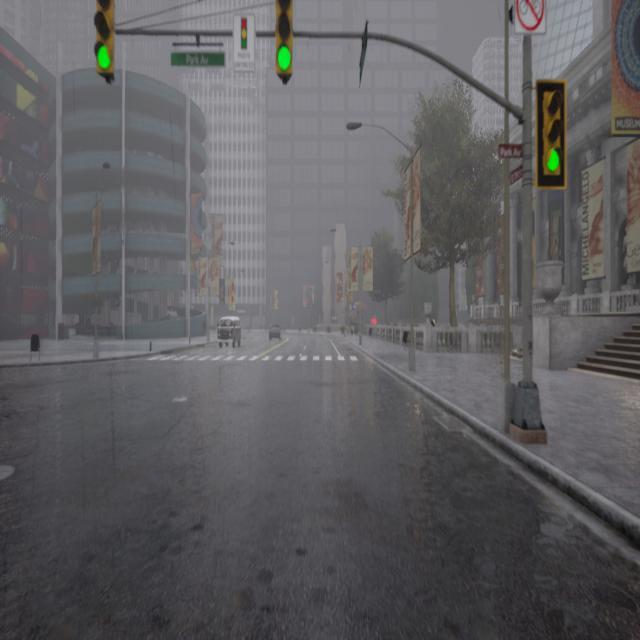11: (516, 0, 550, 49)
bien_chi_dan: (91, 46, 119, 86), (275, 46, 295, 80), (542, 148, 562, 178)
bien_nguy_hiem: (528, 80, 566, 194), (270, 0, 304, 101), (91, 0, 122, 101)
